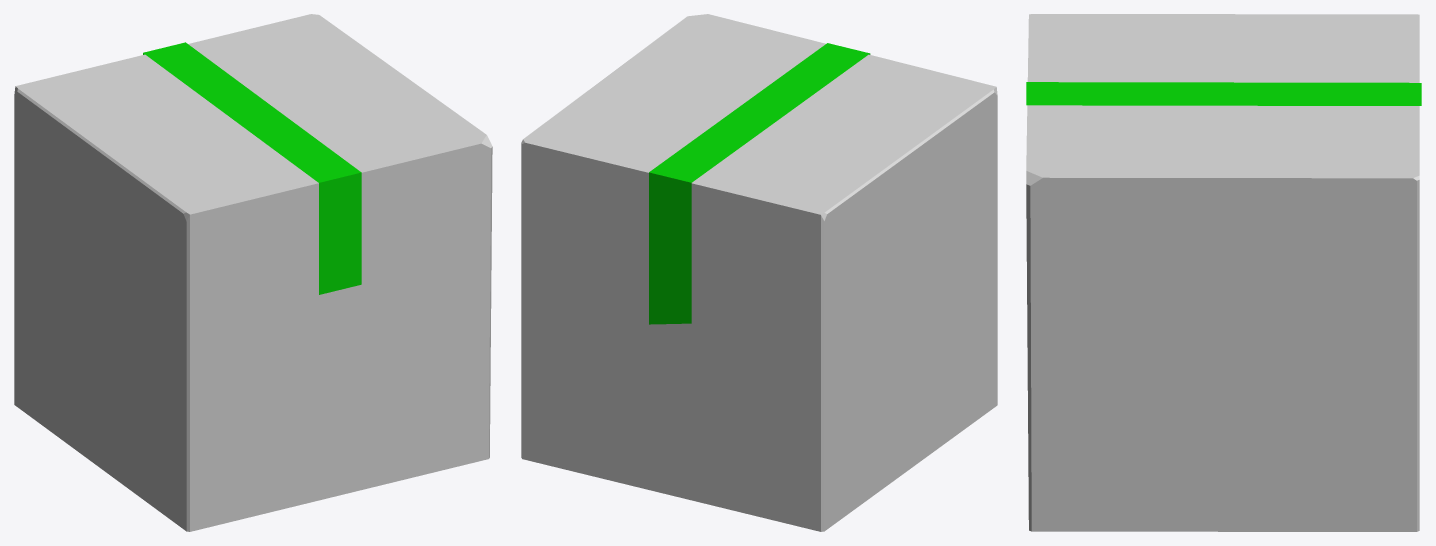
3 renders of one model, left to right at view 1: azimuth 30°, elevation 25°; view 2: azimuth 150°, elevation 25°; view 3: azimuth 270°, elevation 25°, orthographic. The views are drawn at different scales.
Parts seen in each view (by area): view 1: Box1; view 2: Box1; view 3: Box1.
Boxes of the visible parts, x1,y1,x2,y2 form: Box1: (14,14,492,531); Box1: (521,14,997,531); Box1: (1026,14,1421,531).
Bounding box in the file's own units: 34.68 × 34.59 × 34.91.
